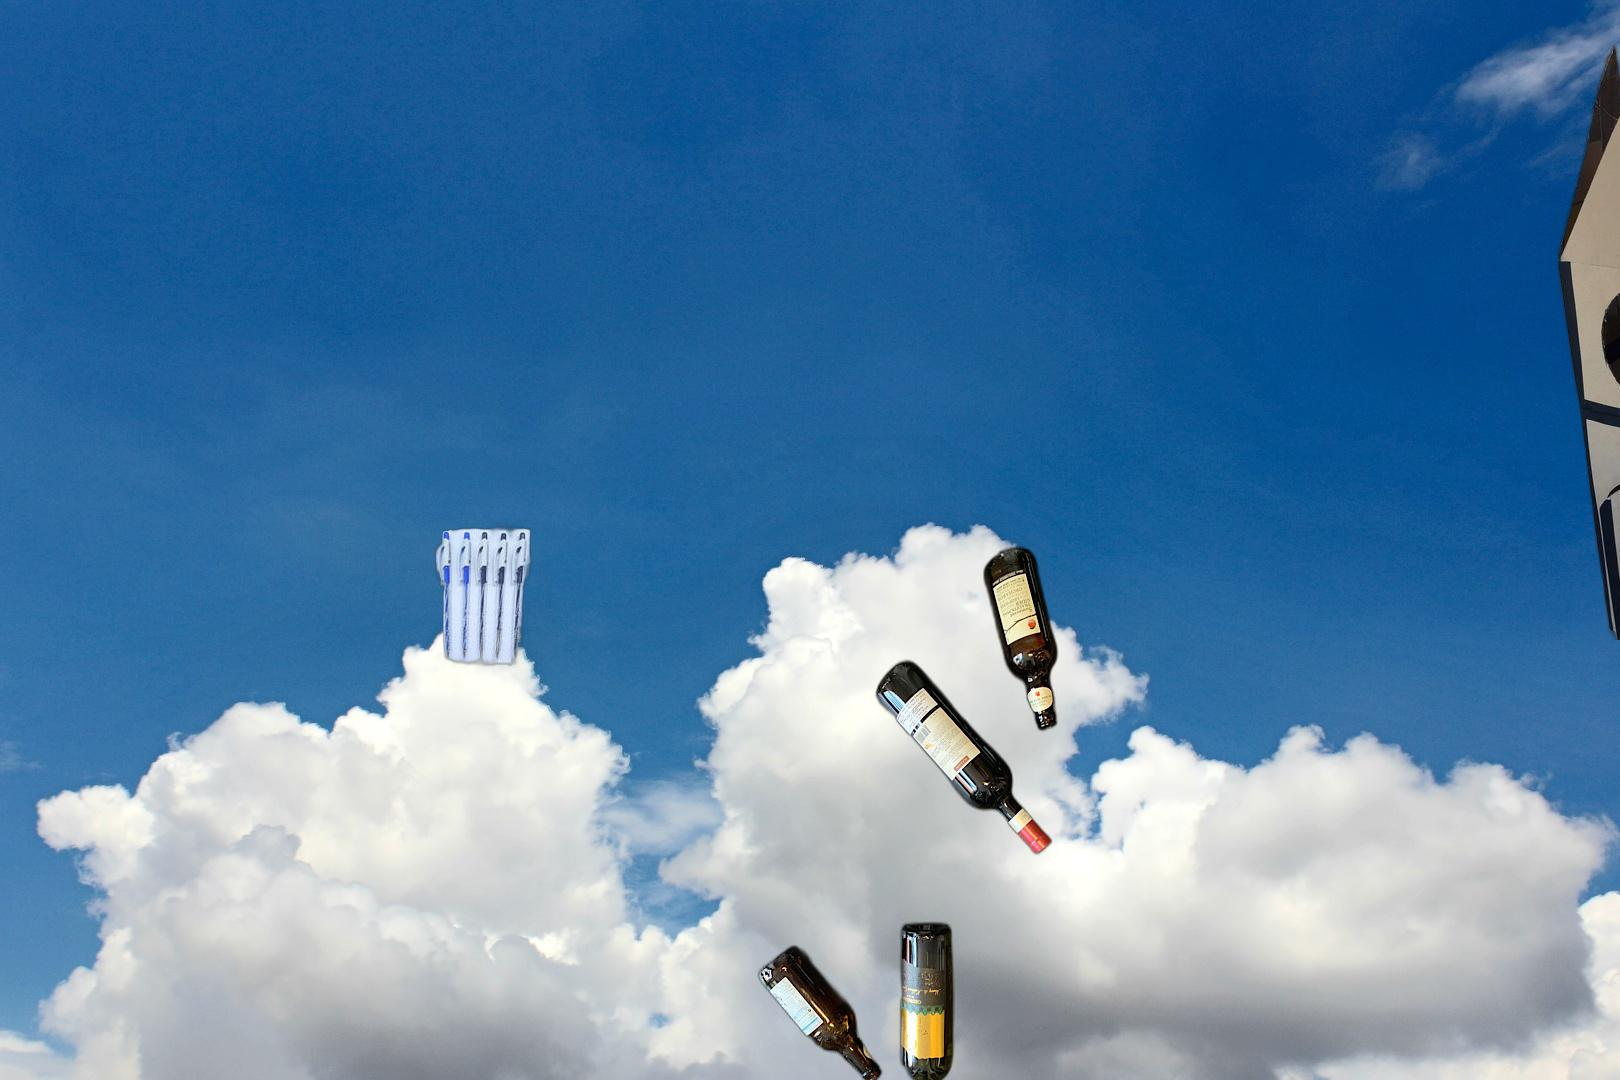glass: (755, 540, 1062, 1080)
penholder: (433, 522, 560, 673)
trashbox-cardboard: (1552, 40, 1620, 640)
